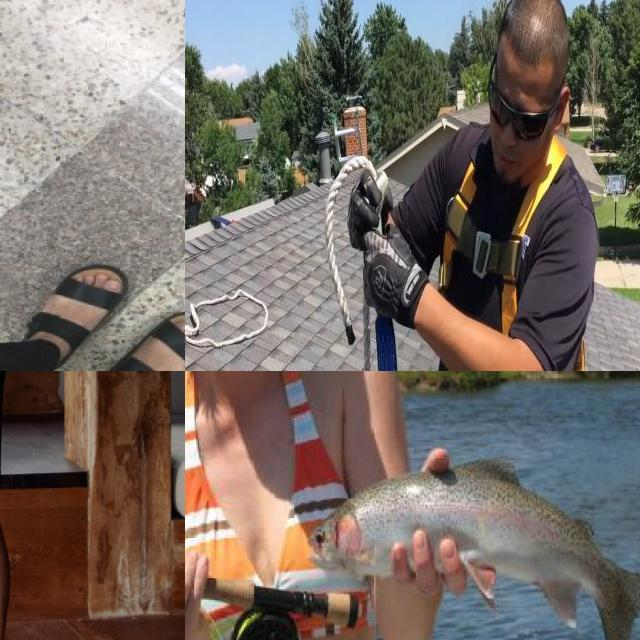Harness: (440, 137, 568, 334)
Sandals: (32, 262, 133, 370), (128, 305, 185, 371)
hand_noglove: (385, 452, 499, 602), (185, 527, 223, 640)
person: (185, 371, 430, 640)
